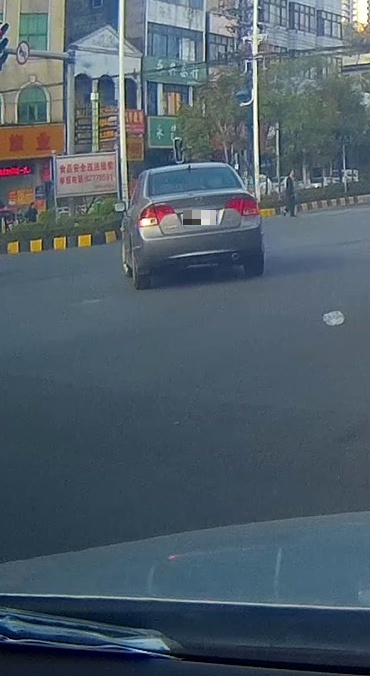L_light: (137, 202, 175, 227)
R_light: (225, 195, 260, 215)
T_light: (180, 168, 199, 173)
day-left: (137, 160, 262, 288)
plate_1: (183, 210, 216, 225)
